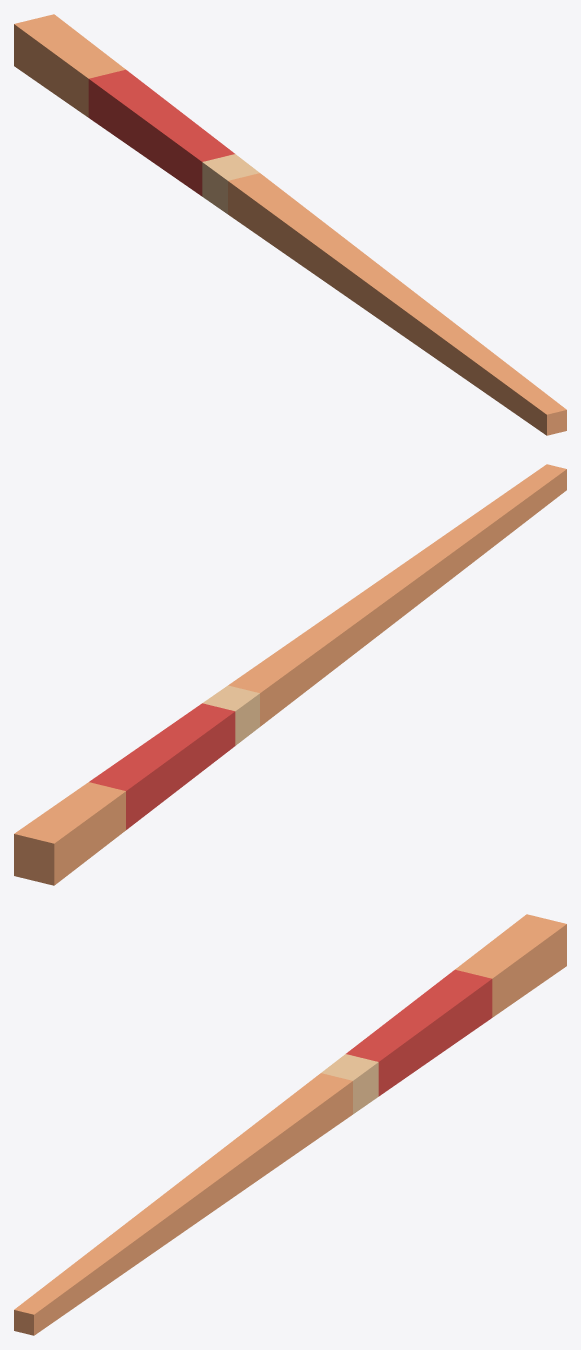
File: Chopstick Fancy.glb
3 views of the same model, one above another, from view 1: azimuth 30°, elevation 25°; view 2: azimuth 150°, elevation 25°; view 3: azimuth 330°, elevation 25° (orthographic).
Parts seen in each view (by area): view 1: Chopstick Fancy; view 2: Chopstick Fancy; view 3: Chopstick Fancy.
Boxes of the visible parts, x1,y1,x2,y2 form: Chopstick Fancy: (14, 14, 566, 435); Chopstick Fancy: (14, 464, 566, 885); Chopstick Fancy: (14, 914, 566, 1335).
Bounding box in the file's own units: 0.0088 × 0.0088 × 0.198.
